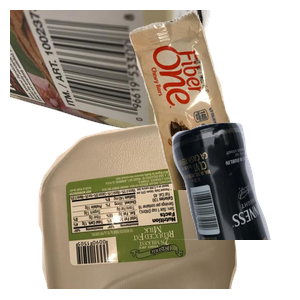cardboard: (10, 10, 213, 146)
glass: (106, 120, 300, 300)
plastic: (36, 120, 265, 300)
trash: (127, 10, 300, 190)
